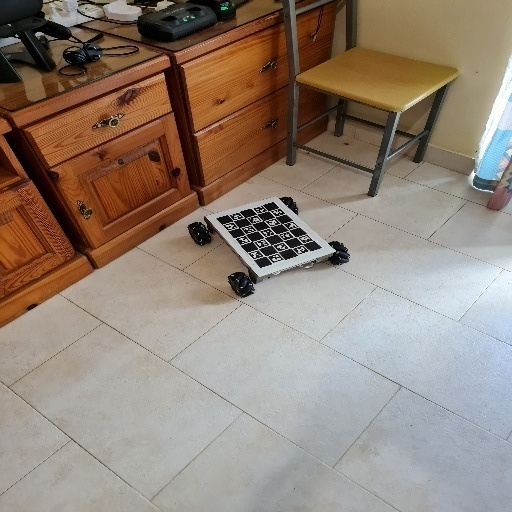Omniwheel: (187, 196, 351, 300)
